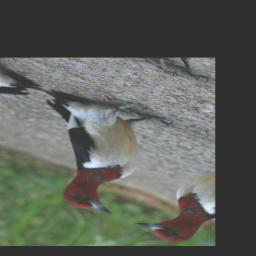Woodpecker: (0, 74, 193, 221)
